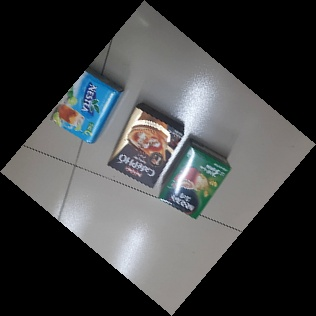CF pho: (106, 102, 185, 187)
Nes Rang: (155, 139, 230, 222)
Nestea: (46, 66, 121, 144)
